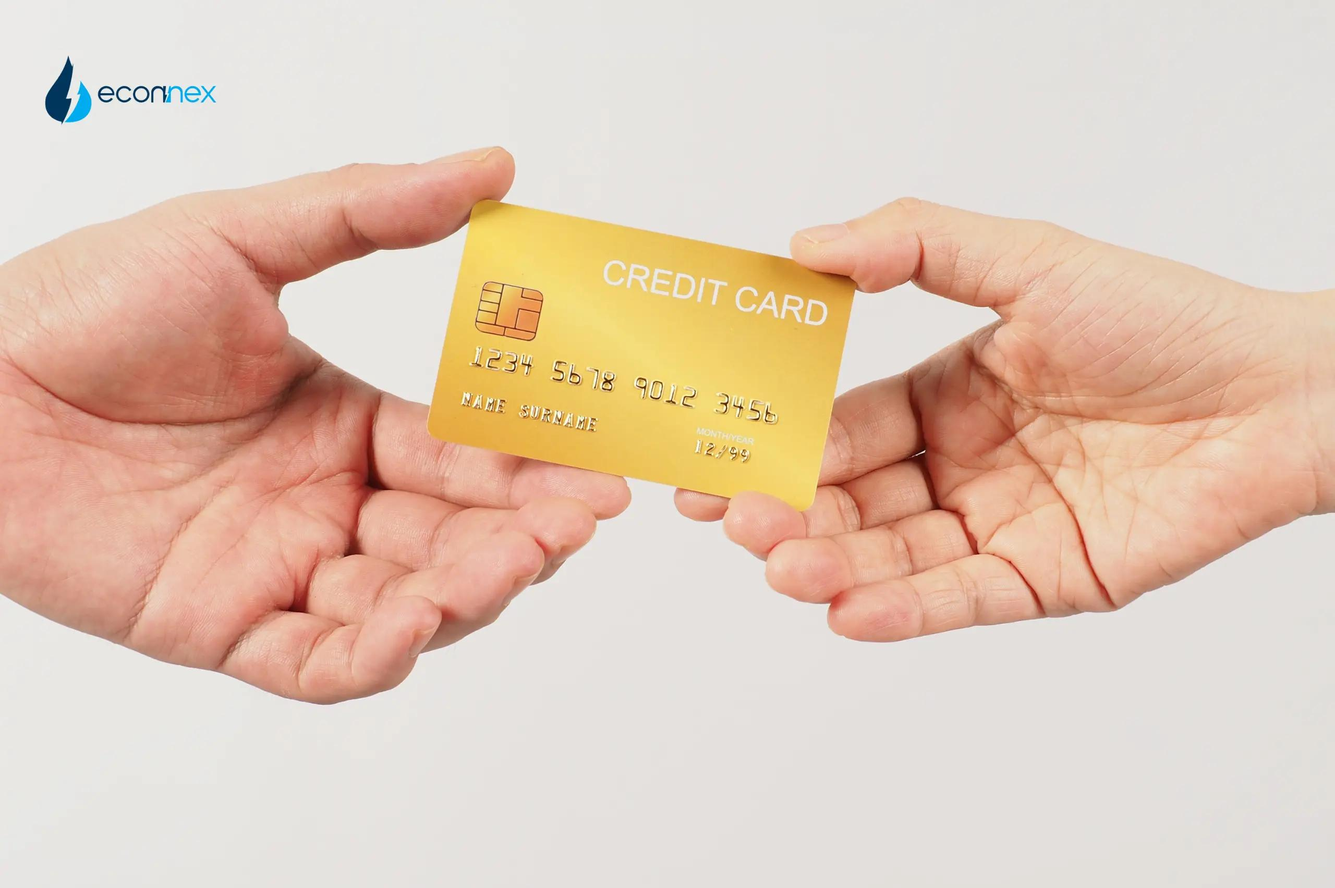Credit_card: (428, 201, 855, 510)
